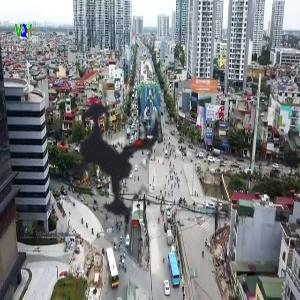drone: (4, 48, 229, 273)
